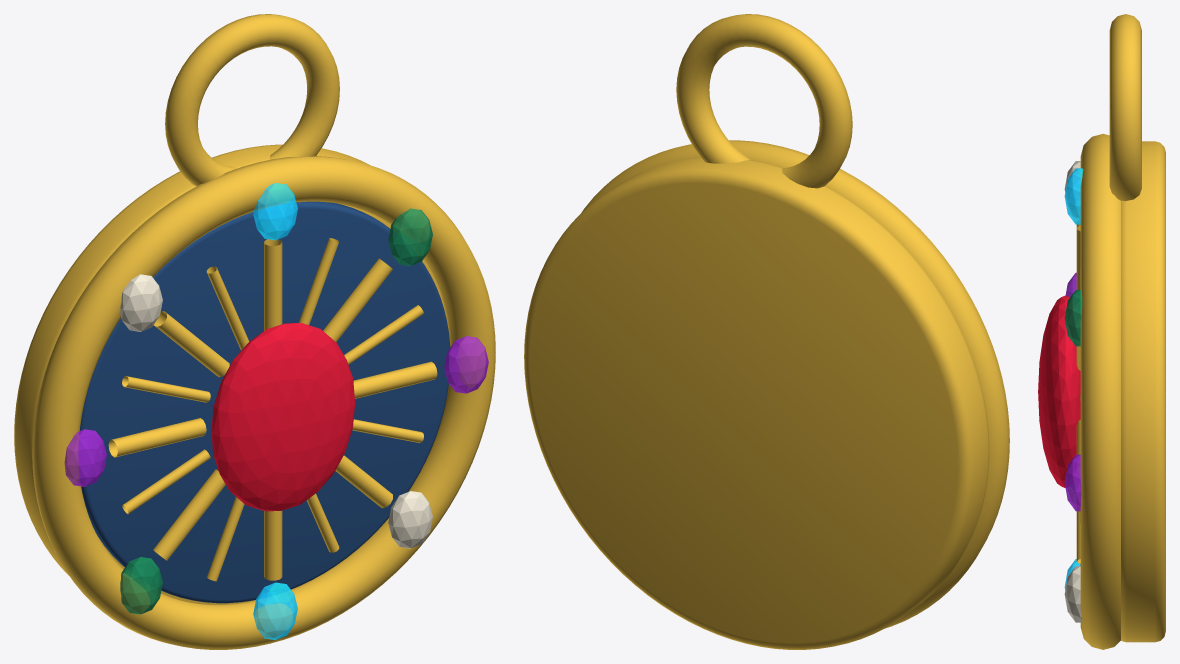
File: medallion.glb
3 renders of one model, left to right at view 1: azimuth 30°, elevation 25°; view 2: azimuth 150°, elevation 25°; view 3: azimuth 270°, elevation 25°, orthographic. The views are drawn at different scales.
Visible parts, largest first — view 1: treasure-medallion-lapis-enamel-face, treasure-medallion-chased-gold-rim, treasure-medallion-central-sovereign-ruby, treasure-medallion-royal-chain-loop, treasure-medallion-solid-gold-sun-disc, treasure-medallion-orbit-jewel.002, treasure-medallion-orbit-jewel.004, treasure-medallion-orbit-jewel.003, treasure-medallion-orbit-jewel.001, treasure-medallion-orbit-jewel.005, treasure-medallion-orbit-jewel, treasure-medallion-orbit-jewel.007 (+17 smaller); view 2: treasure-medallion-solid-gold-sun-disc, treasure-medallion-chased-gold-rim, treasure-medallion-royal-chain-loop; view 3: treasure-medallion-solid-gold-sun-disc, treasure-medallion-chased-gold-rim, treasure-medallion-royal-chain-loop, treasure-medallion-central-sovereign-ruby, treasure-medallion-orbit-jewel.001, treasure-medallion-orbit-jewel, treasure-medallion-orbit-jewel.002, treasure-medallion-orbit-jewel.003, treasure-medallion-radiant-gold-sun-ray.006, treasure-medallion-radiant-gold-sun-ray.
Boxes of the visible parts, x1,y1,x2,y2 form: treasure-medallion-lapis-enamel-face: (79,201,450,603); treasure-medallion-chased-gold-rim: (32,156,495,649); treasure-medallion-central-sovereign-ruby: (211,323,355,511); treasure-medallion-royal-chain-loop: (165,14,339,186); treasure-medallion-solid-gold-sun-disc: (14,144,448,604); treasure-medallion-orbit-jewel.002: (444,336,488,393); treasure-medallion-orbit-jewel.004: (253,582,297,639); treasure-medallion-orbit-jewel.003: (388,491,432,548); treasure-medallion-orbit-jewel.001: (388,208,432,265); treasure-medallion-orbit-jewel.005: (120,557,162,614); treasure-medallion-orbit-jewel: (253,183,297,240); treasure-medallion-orbit-jewel.007: (120,274,162,331); treasure-medallion-solid-gold-sun-disc: (524,157,989,649); treasure-medallion-chased-gold-rim: (581,140,1009,628); treasure-medallion-royal-chain-loop: (676,14,852,188); treasure-medallion-solid-gold-sun-disc: (1121,141,1165,642); treasure-medallion-chased-gold-rim: (1080,133,1120,649); treasure-medallion-royal-chain-loop: (1109,14,1141,201); treasure-medallion-central-sovereign-ruby: (1038,295,1080,487); treasure-medallion-orbit-jewel.001: (1064,290,1082,346); treasure-medallion-orbit-jewel: (1064,168,1083,224); treasure-medallion-orbit-jewel.002: (1064,454,1081,511); treasure-medallion-orbit-jewel.003: (1064,566,1082,622); treasure-medallion-radiant-gold-sun-ray.006: (1076,511,1080,563); treasure-medallion-radiant-gold-sun-ray: (1077,225,1080,289).
Size of the model in its own units: 1.03 by 1.33 by 0.255.
